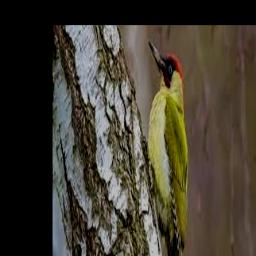Woodpecker: (141, 40, 189, 256)
